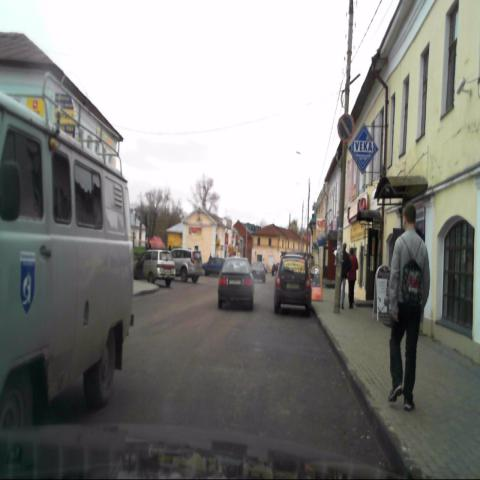3_28: (336, 112, 355, 144)
